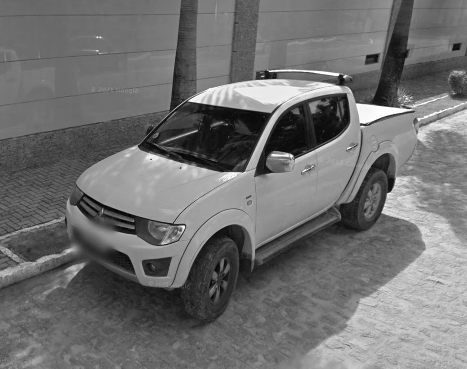car: (61, 63, 423, 326)
